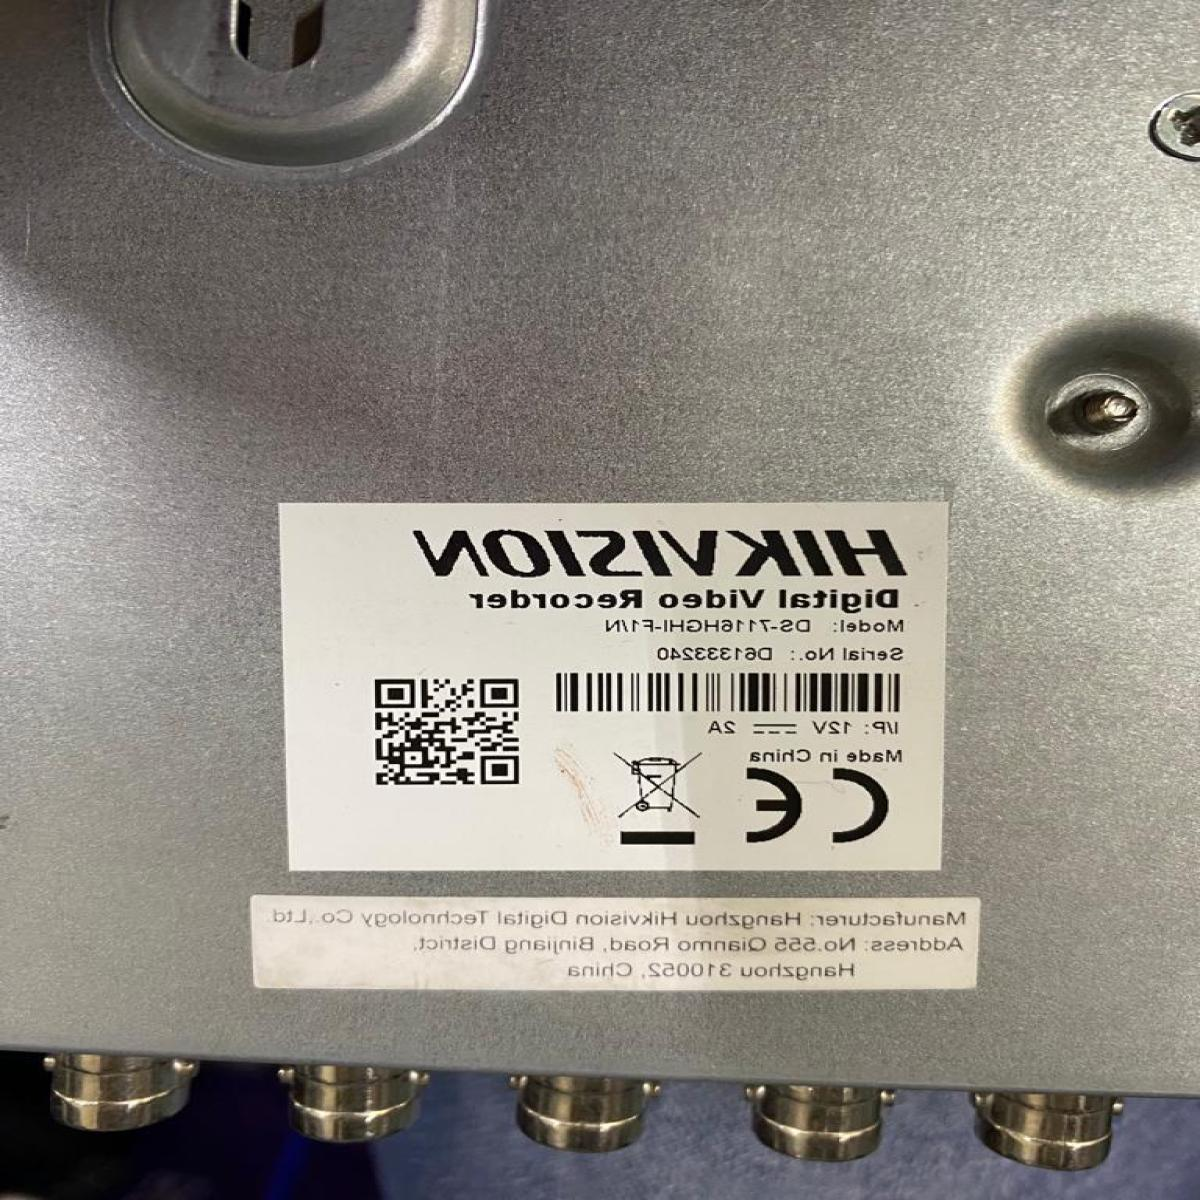Barcode: (544, 663, 916, 722)
Label: (280, 502, 941, 874)
